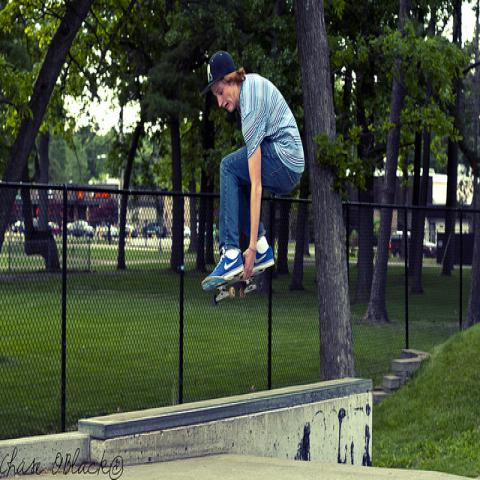car: (389, 232, 436, 258), (69, 220, 94, 238), (95, 221, 119, 237), (142, 226, 156, 238), (124, 226, 138, 236), (184, 226, 190, 238)
